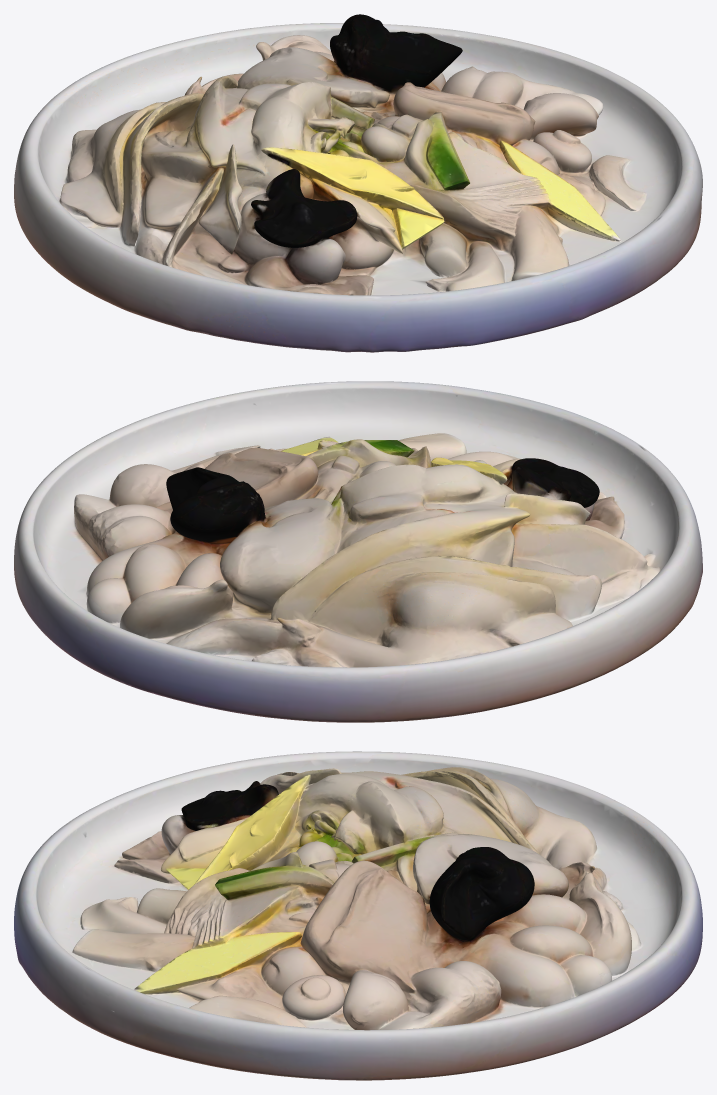
The model's file is Assorted Delicacies in Clear Broth.glb.
3 views of the same model, one above another, from view 1: azimuth 30°, elevation 25°; view 2: azimuth 150°, elevation 25°; view 3: azimuth 270°, elevation 25° (orthographic). The views are drawn at different scales.
Parts seen in each view (by area): view 1: material; view 2: material; view 3: material.
Boxes of the visible parts, bbox=[...] form: material: bbox=[14, 14, 702, 352]; material: bbox=[14, 381, 702, 722]; material: bbox=[14, 751, 702, 1080].
Size of the model in its own units: 1.15 by 0.2425 by 1.17.
Materials: 1 (1 with a texture image).
